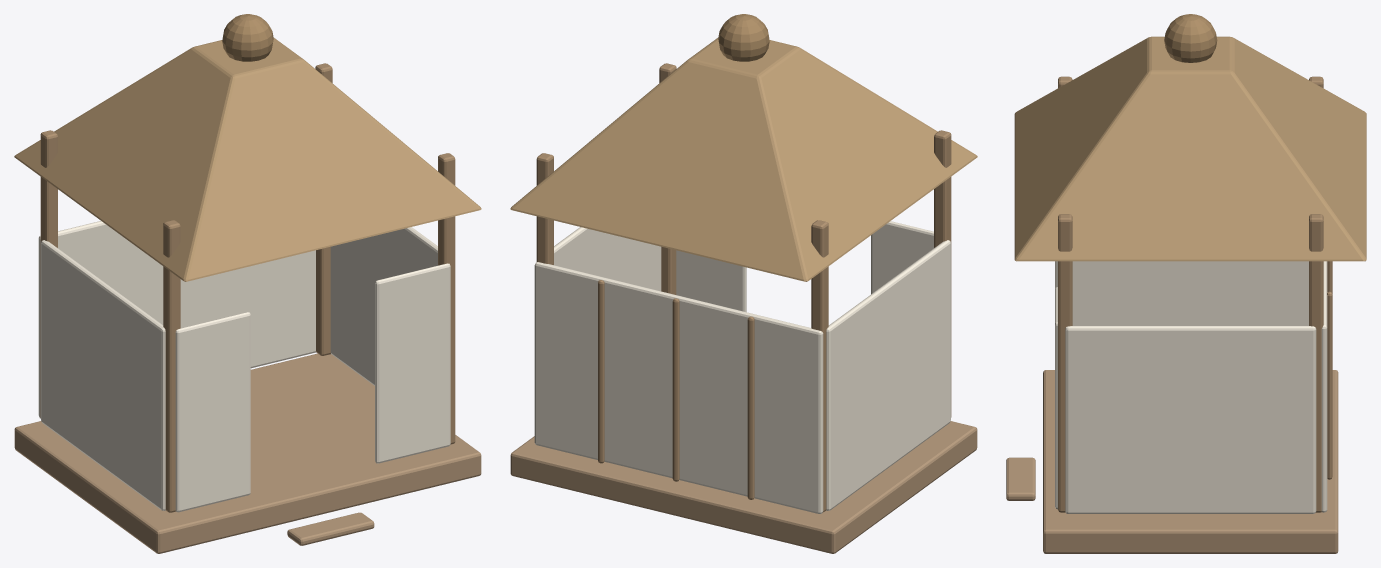
The model's file is tea_house.glb.
3 renders of one model, left to right at view 1: azimuth 30°, elevation 25°; view 2: azimuth 150°, elevation 25°; view 3: azimuth 270°, elevation 25°, orthographic. The views are drawn at different scales.
Visible parts, largest first — view 1: TeaHouse; view 2: TeaHouse; view 3: TeaHouse.
Boxes of the visible parts, x1,y1,x2,y2 form: TeaHouse: (14, 14, 481, 553); TeaHouse: (510, 14, 977, 553); TeaHouse: (1006, 14, 1366, 553).
Bounding box in the file's own units: 2.6 × 3.49 × 2.44.
